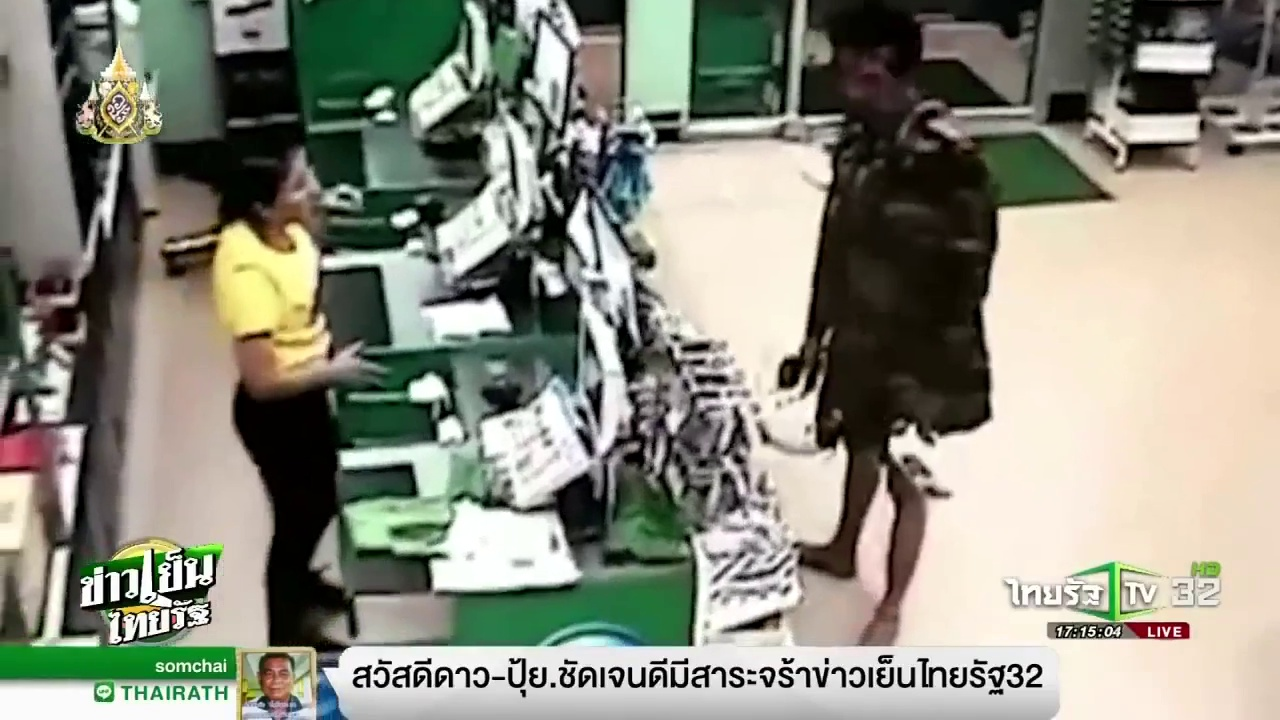helmet: (743, 337, 842, 453)
